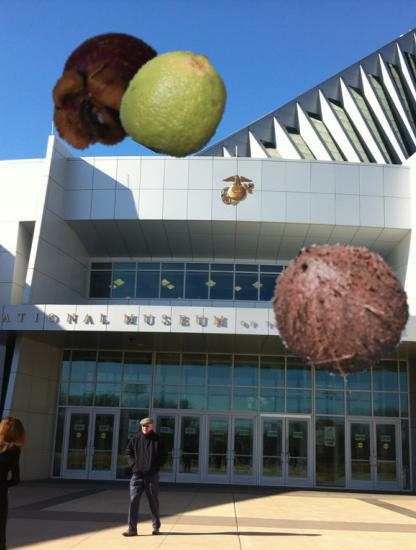Cocos: (270, 236, 414, 380)
Limes: (121, 47, 231, 157)
Mangostan: (40, 26, 172, 158)
